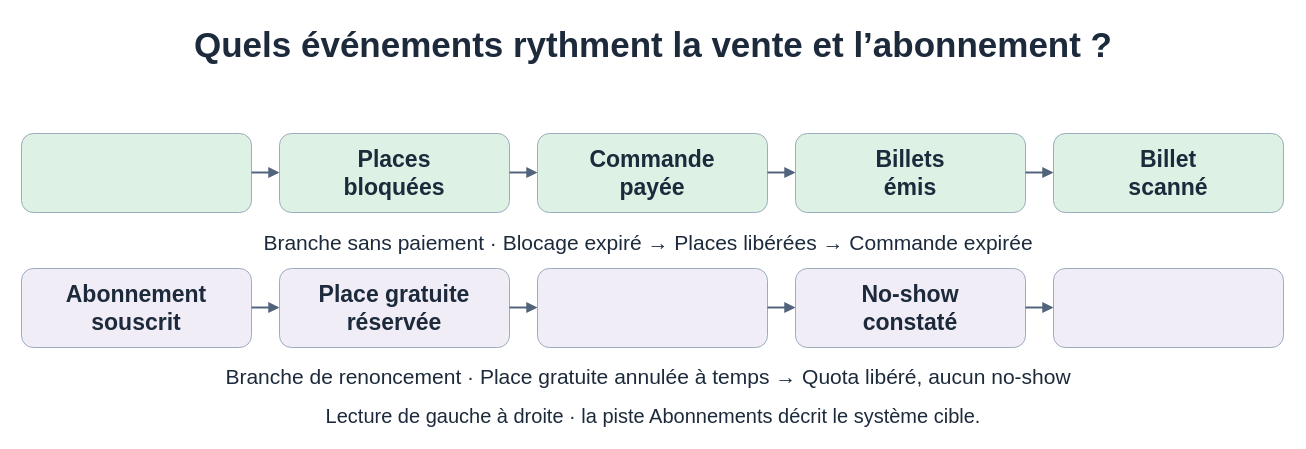
Image size: 1306x449. Some labels were removed from this diagram. Here are the shapes that lost their labels. From the top down, the centre of each, then its label:
the point at 136,172: Séance publiée
the point at 652,308: Validité du billet terminée
the point at 1168,308: Réservation suspendue
